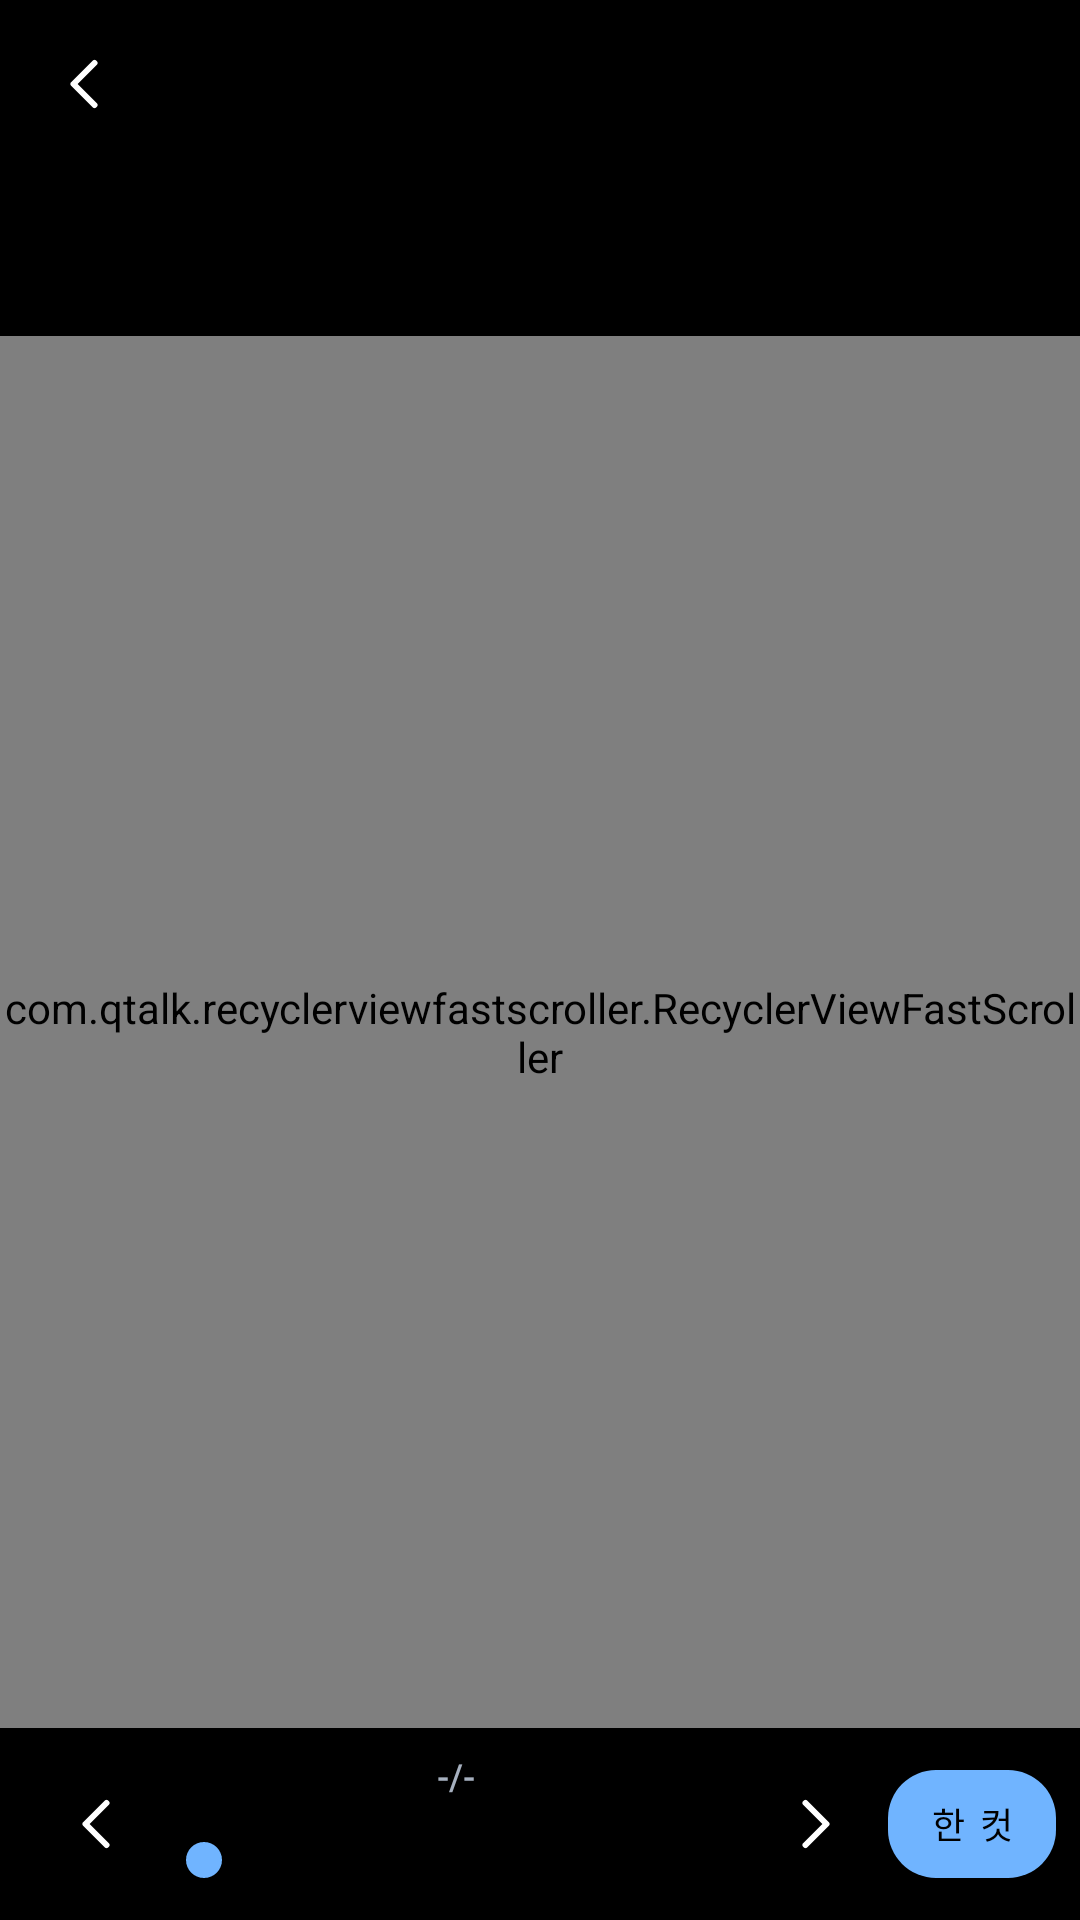

Named icons in this screenshot (1080w x 1920h) and their bounding boxes, bbox=(x1, y1, x2, y2):
Next page: bbox=(802, 1799, 830, 1849)
Previous page: bbox=(82, 1799, 110, 1849)
